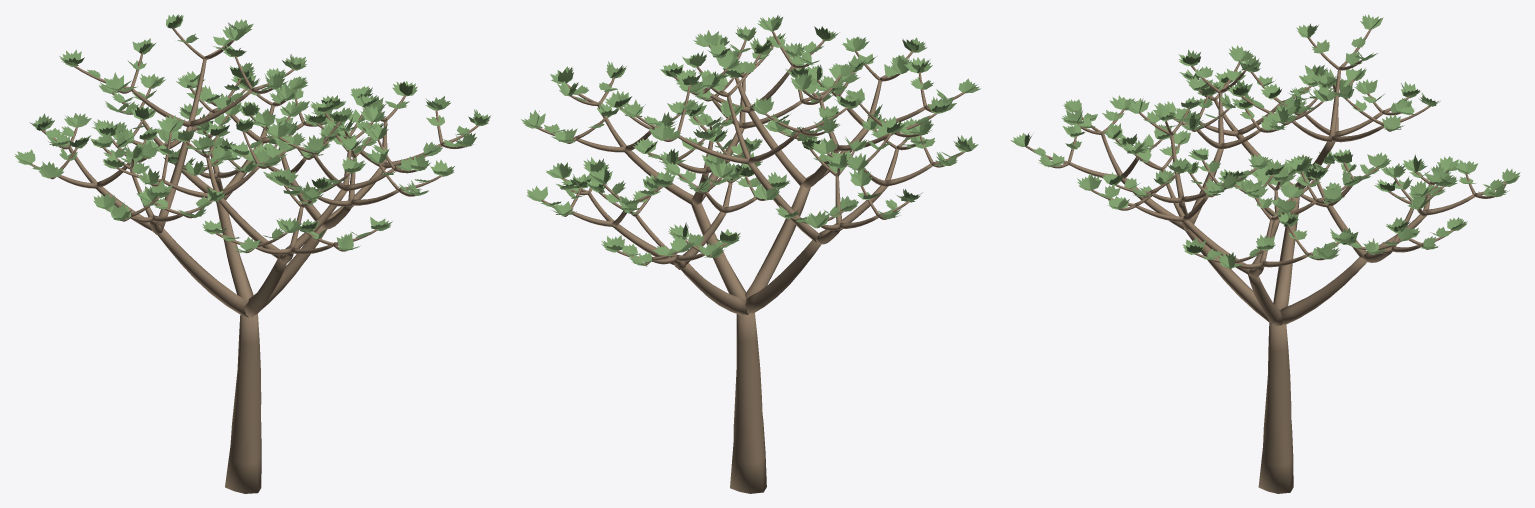
File: tree-ceiba.glb
3 views of the same model, side by side, from view 1: azimuth 30°, elevation 25°; view 2: azimuth 150°, elevation 25°; view 3: azimuth 270°, elevation 25° (orthographic). The views are drawn at different scales.
Parts seen in each view (by area): view 1: Foliage, Wood; view 2: Foliage, Wood; view 3: Foliage, Wood.
Part boxes in pixels (bbox=[...]): Foliage: bbox=[15, 14, 490, 252]; Wood: bbox=[30, 27, 478, 493]; Foliage: bbox=[521, 15, 980, 266]; Wood: bbox=[537, 30, 965, 493]; Foliage: bbox=[1010, 14, 1520, 268]; Wood: bbox=[1025, 28, 1506, 493].
Size of the model in its own units: 8.13 by 8.11 by 9.09.
